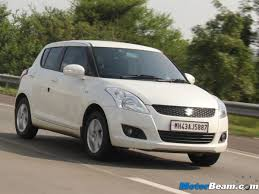Swift: (14, 39, 235, 165)
